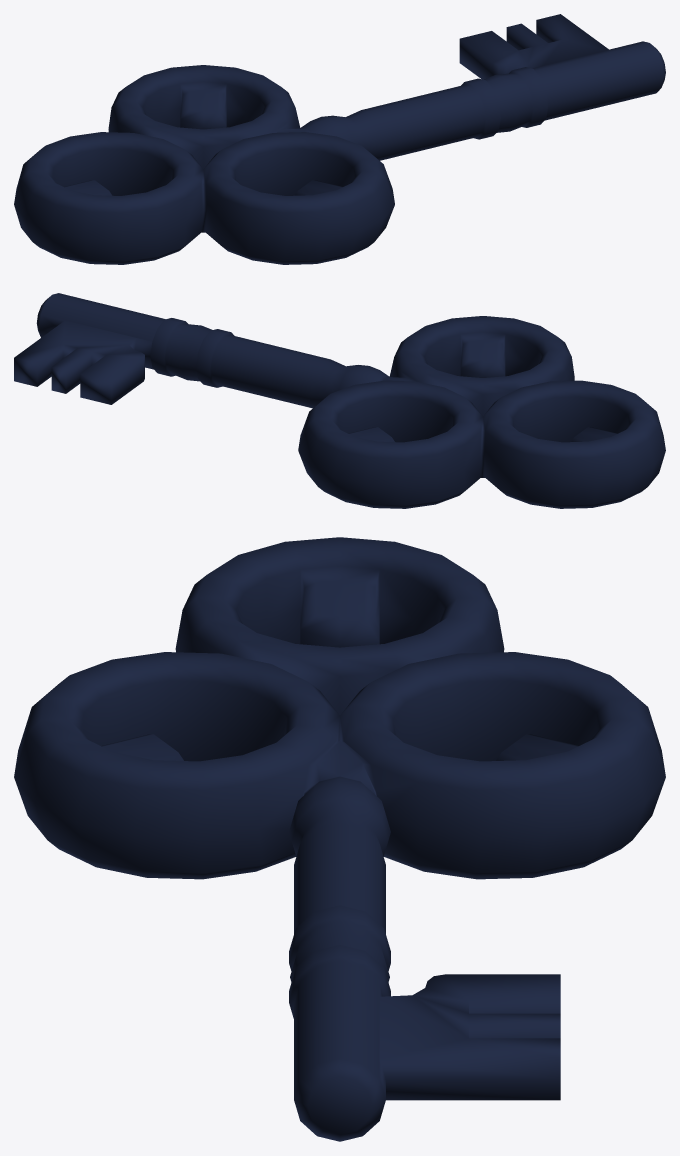
The model's file is Key.obj.
The picture shows the model from 3 angles, top to bottom: view 1: azimuth 30°, elevation 25°; view 2: azimuth 150°, elevation 25°; view 3: azimuth 270°, elevation 25°; orthographic projection. The views are drawn at different scales.
Visible parts, largest first — view 1: Key; view 2: Key; view 3: Key.
Boxes of the visible parts, box(x1,y1,x2,y2) form: Key: box(14, 14, 665, 264); Key: box(14, 293, 665, 508); Key: box(14, 537, 665, 1141).
Bounding box in the file's own units: 3.15 × 0.2976 × 1.65.
